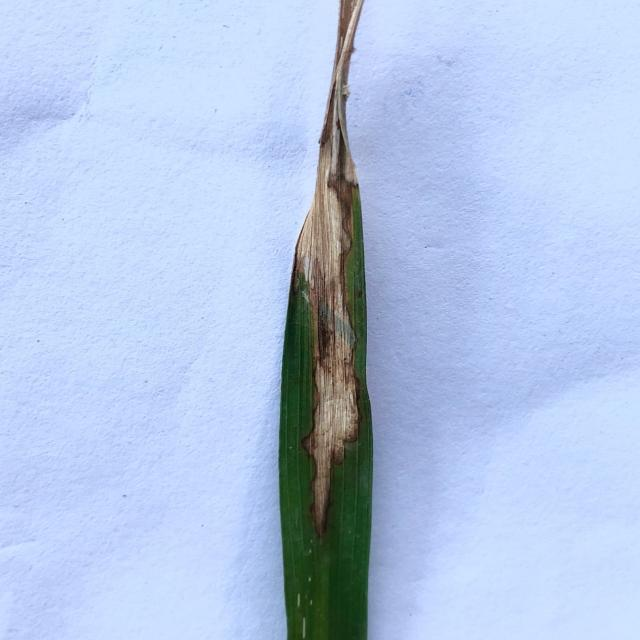Leaf Blight: (296, 0, 364, 541)
